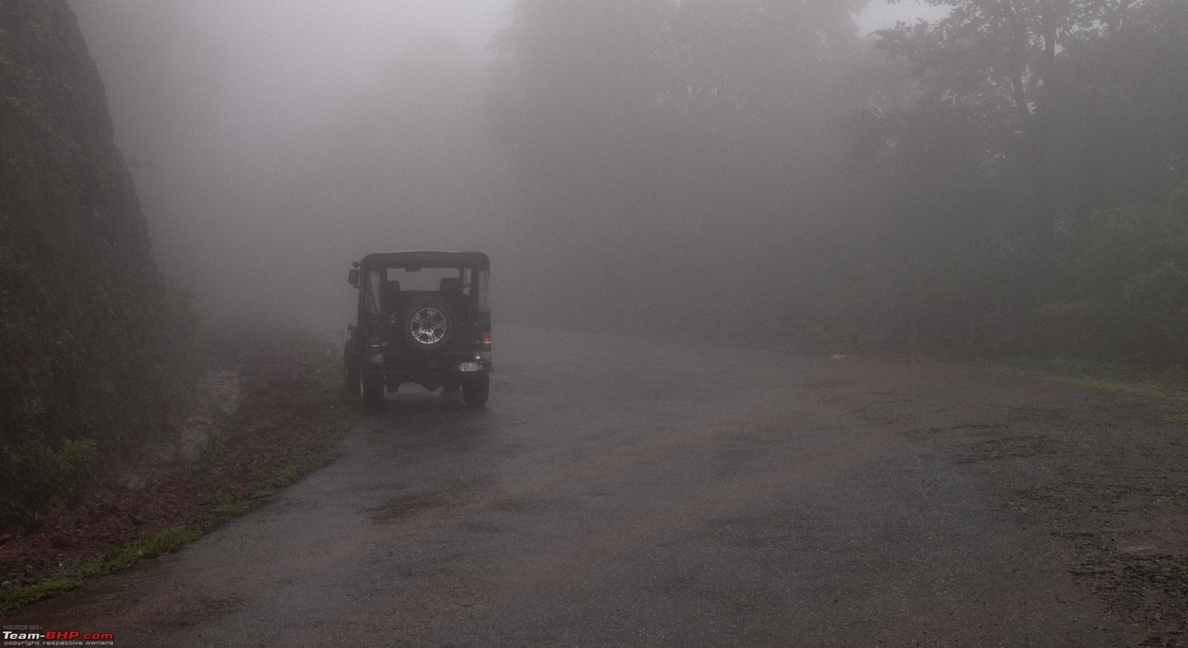car: (340, 248, 495, 411)
